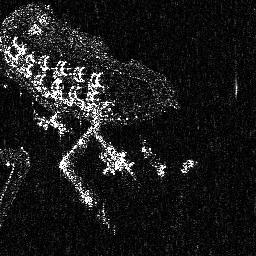ship: (139, 145, 166, 175)
